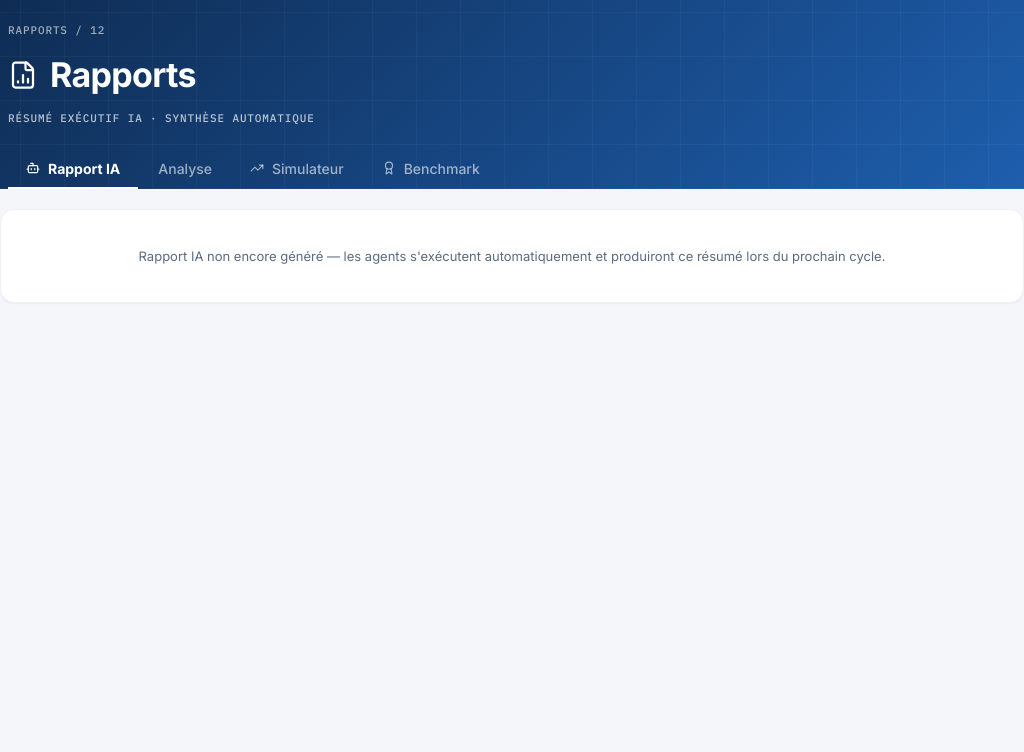
Test: RapportsPage → Analyse — agrégats corrects › chantier archivé toujours visible dans le détail "Prévu vs Réel" du rapport
Click the button "Analyse": coordinates (185, 169) [140,150,230,189]
(page scrolled)
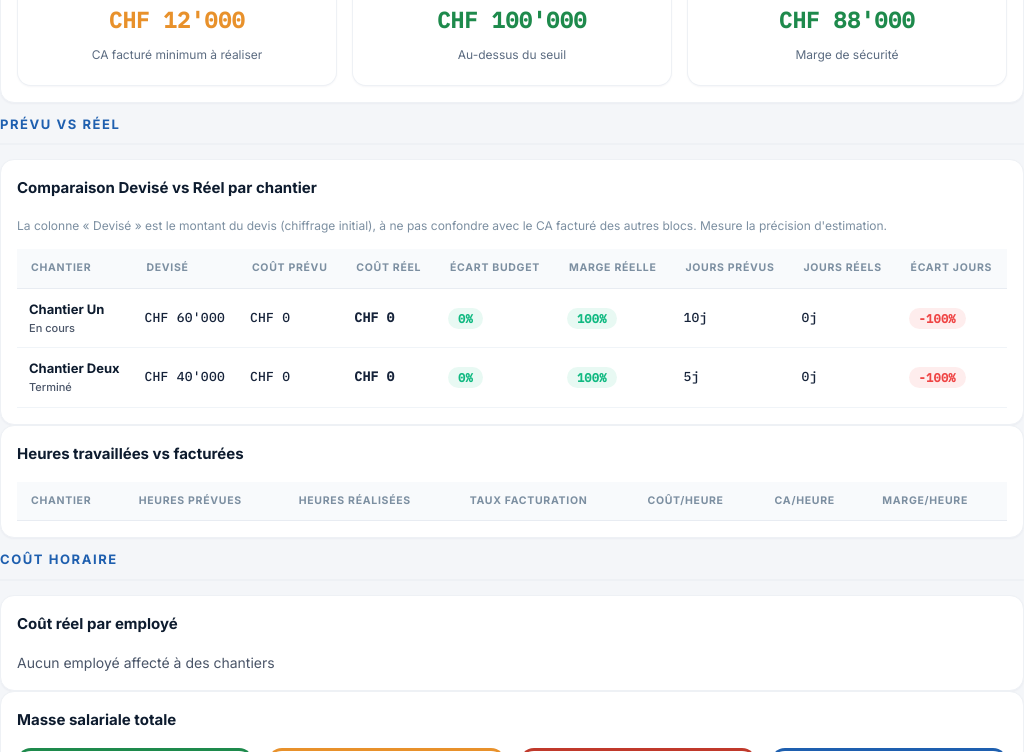
Result: the text "Prévu vs Réel" is shown at [0,116,120,132]
Result: the text "Chantier Un" is shown at [29,301,104,317]
Result: the text "Chantier Deux" is shown at [29,360,120,376]
